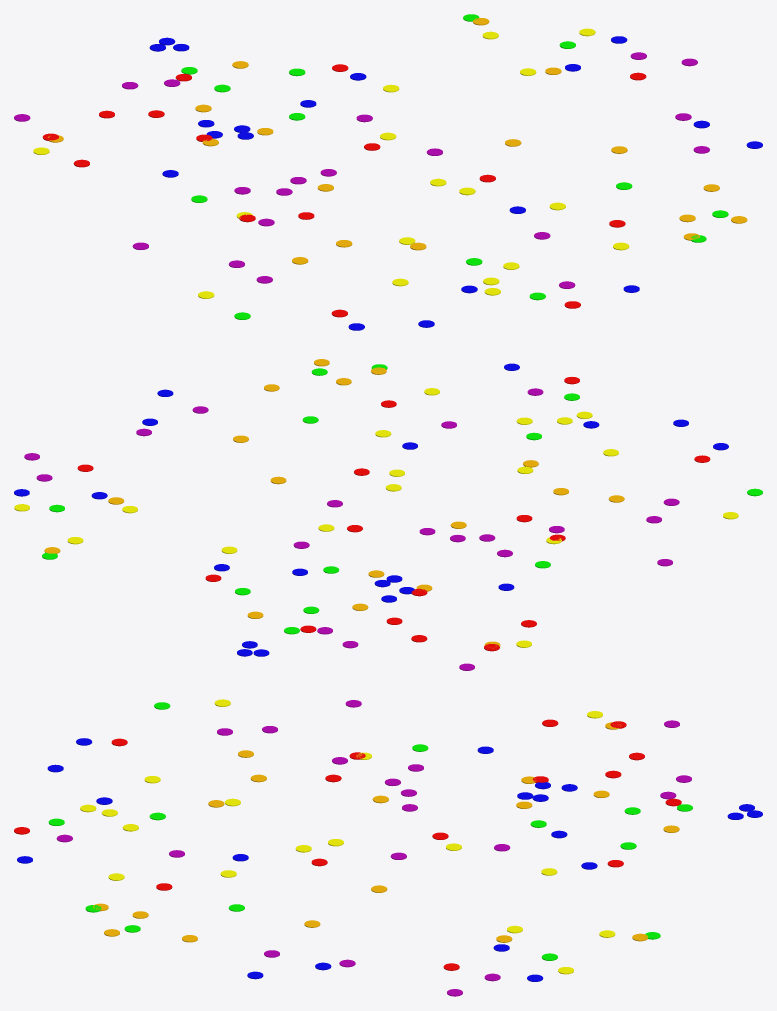
Rendered from rainbow_round3.glb.
3 renders of one model, top to bottom at view 1: azimuth 30°, elevation 25°; view 2: azimuth 150°, elevation 25°; view 3: azimuth 270°, elevation 25°, orthographic. The views are drawn at different scales.
Size of the model in its own units: 2.61 by 0.003 by 2.79.
